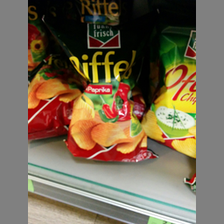chips: (55, 28, 153, 165), (143, 26, 196, 160)
